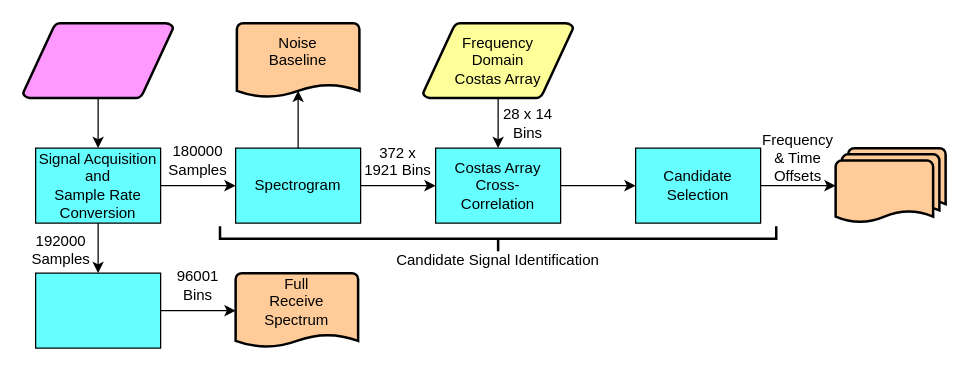
Some shapes in this 968 by 370 pixel diagram are drawn without their labels. Each missing label, with the box of its shape:
Candidate List: (834, 146, 946, 224)
Multiple FT8 Signals With Noise: (21, 21, 174, 99)
Real DFT: (34, 272, 161, 348)
